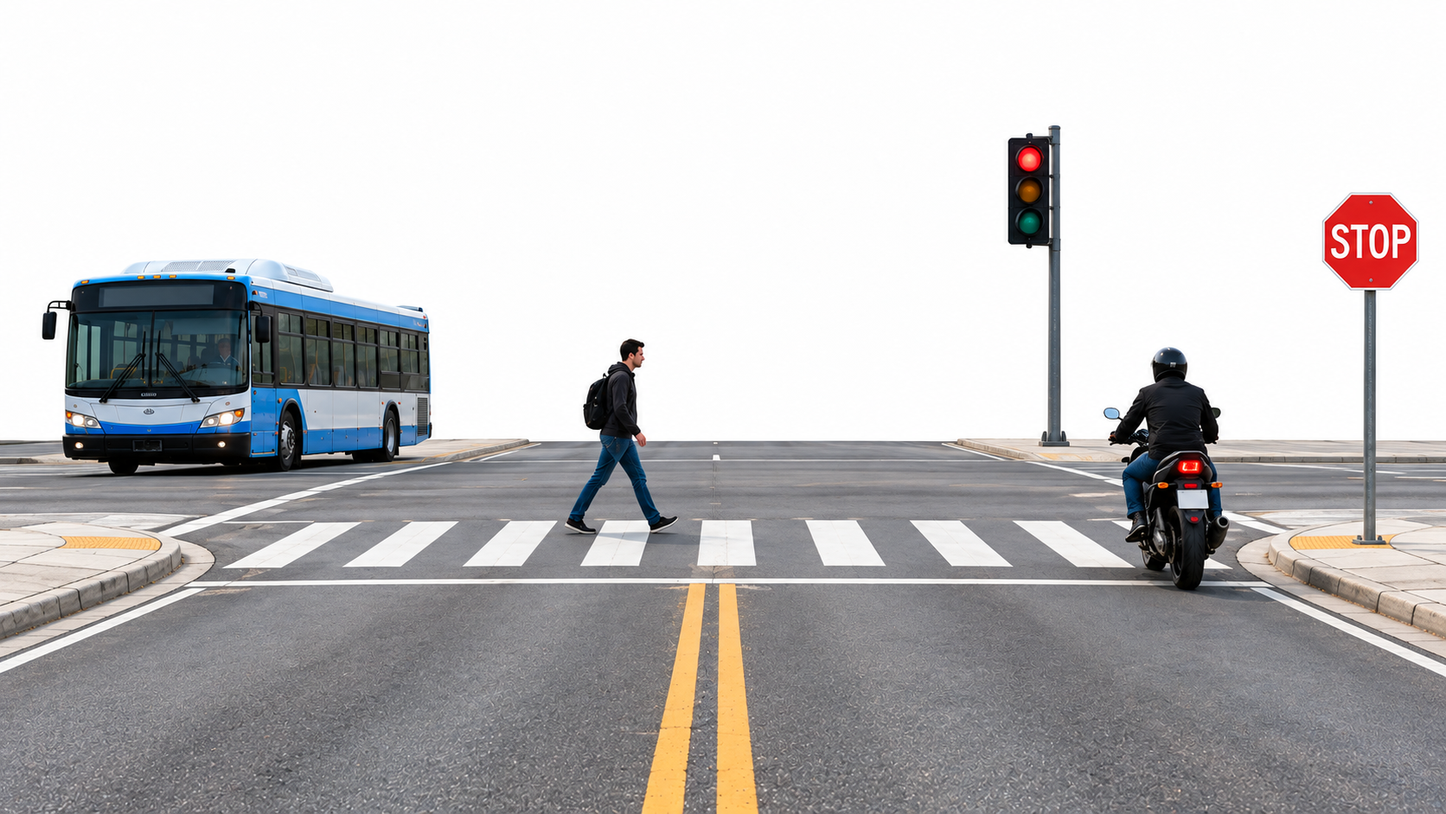bus: (42, 259, 435, 475)
motorcycle: (1102, 408, 1244, 590)
person: (563, 338, 679, 535), (1109, 347, 1226, 542)
stop_sign: (1321, 191, 1424, 292)
traffic_light: (1008, 136, 1053, 247)
zebra_crossing: (196, 512, 1260, 574)
